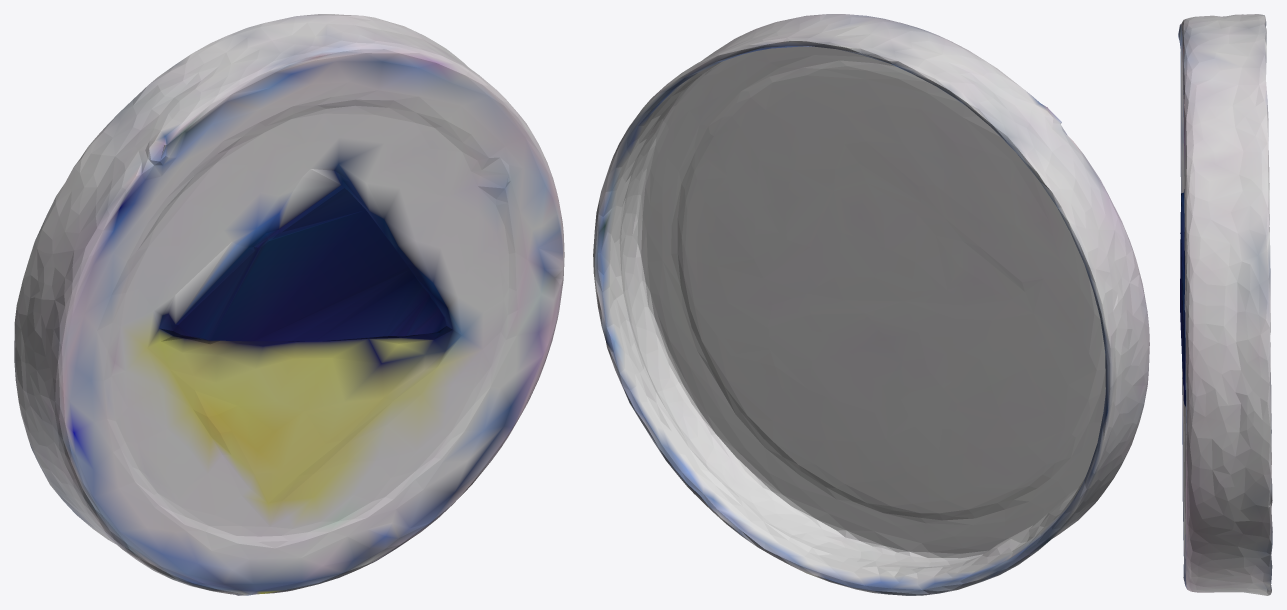
File: scan.obj
3 views of the same model, side by side, from view 1: azimuth 30°, elevation 25°; view 2: azimuth 150°, elevation 25°; view 3: azimuth 270°, elevation 25° (orthographic). The views are drawn at different scales.
Visible parts, largest first — view 1: scan.ply; view 2: scan.ply; view 3: scan.ply.
Part boxes in pixels (x1,y1,x2,y2): scan.ply: (14, 14, 564, 595); scan.ply: (593, 14, 1149, 595); scan.ply: (1178, 14, 1272, 595).
Size of the model in its own units: 0.1139 by 0.114 by 0.0185.
